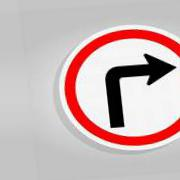right: (58, 25, 180, 151)
